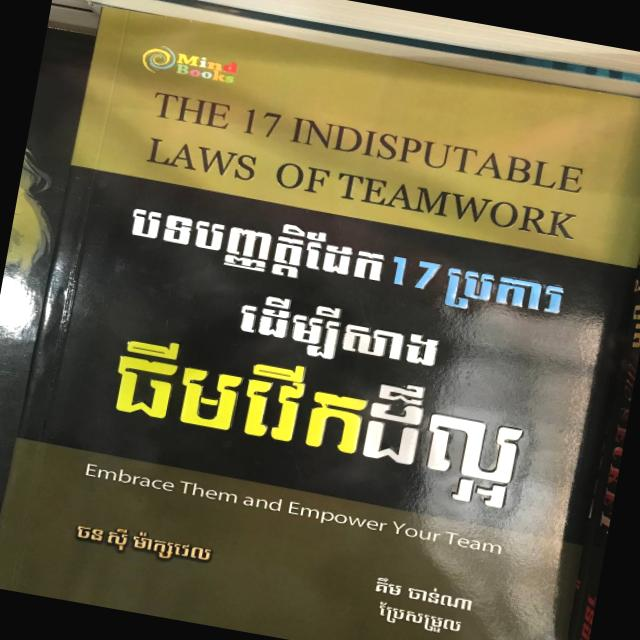1: (63, 511, 220, 570), (365, 570, 479, 619)
125: (119, 193, 565, 326)
Yolov11_80vkh: (104, 328, 525, 515), (229, 286, 447, 385), (354, 597, 465, 637)
